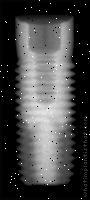Keystone Dental: (15, 15, 77, 190)
